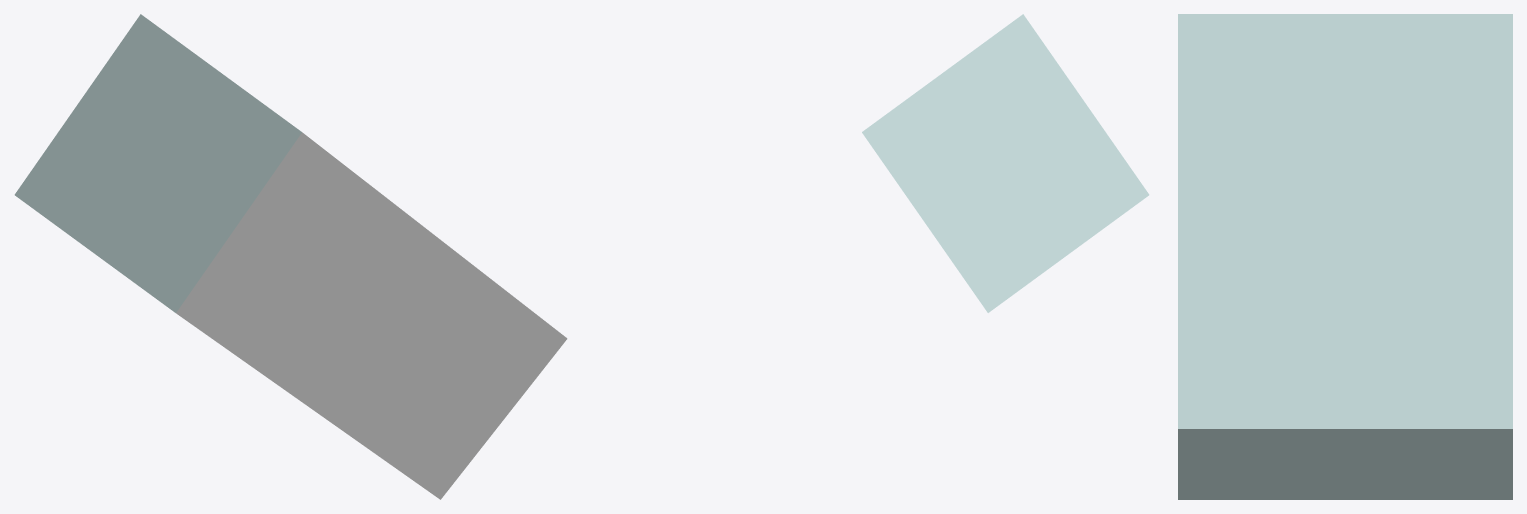
3 views of the same model, side by side, from view 1: azimuth 30°, elevation 25°; view 2: azimuth 150°, elevation 25°; view 3: azimuth 270°, elevation 25° (orthographic). The views are drawn at different scales.
Parts seen in each view (by area): view 1: 0_2_2_3_2_1_1_0_0; view 2: 0_2_2_3_2_1_1_0_0; view 3: 0_2_2_3_2_1_1_0_0.
Boxes of the visible parts, x1,y1,x2,y2 form: 0_2_2_3_2_1_1_0_0: (14,14,567,499); 0_2_2_3_2_1_1_0_0: (862,14,1149,312); 0_2_2_3_2_1_1_0_0: (1178,14,1512,499).
Bounding box in the file's own units: 4.2 × 4.11 × 3.
